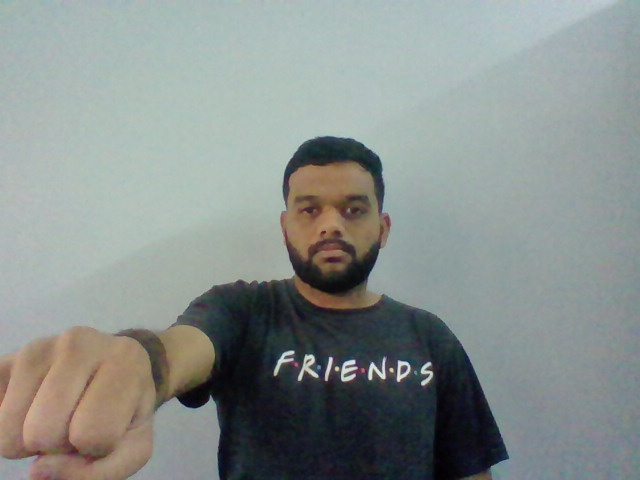Yes: (2, 324, 158, 480)
